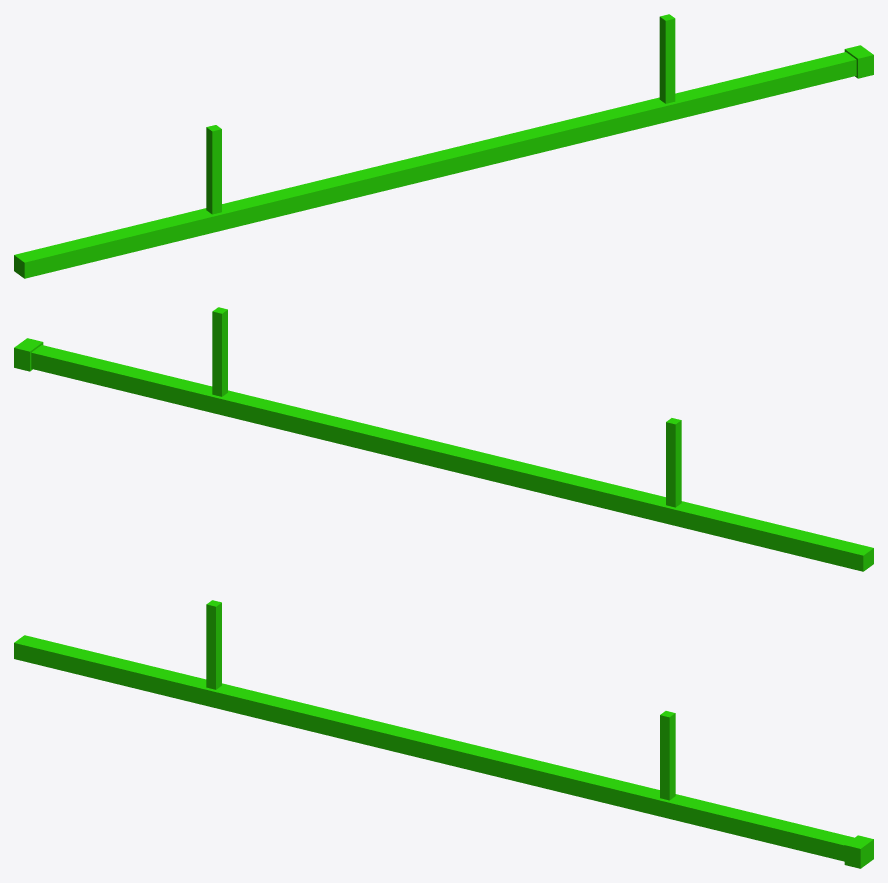
File: Neon_Lamp_Base_Lod0.fbx
3 renders of one model, top to bottom at view 1: azimuth 30°, elevation 25°; view 2: azimuth 150°, elevation 25°; view 3: azimuth 330°, elevation 25°, orthographic.
Visible parts, largest first — view 1: Neon_Lamp_Base_Lod0; view 2: Neon_Lamp_Base_Lod0; view 3: Neon_Lamp_Base_Lod0.
Part boxes in pixels (x1=…): Neon_Lamp_Base_Lod0: x1=14, y1=14, x2=873, y2=278; Neon_Lamp_Base_Lod0: x1=14, y1=307, x2=873, y2=571; Neon_Lamp_Base_Lod0: x1=14, y1=600, x2=873, y2=868.
Size of the model in its own units: 305 by 34.8 by 8.32.
